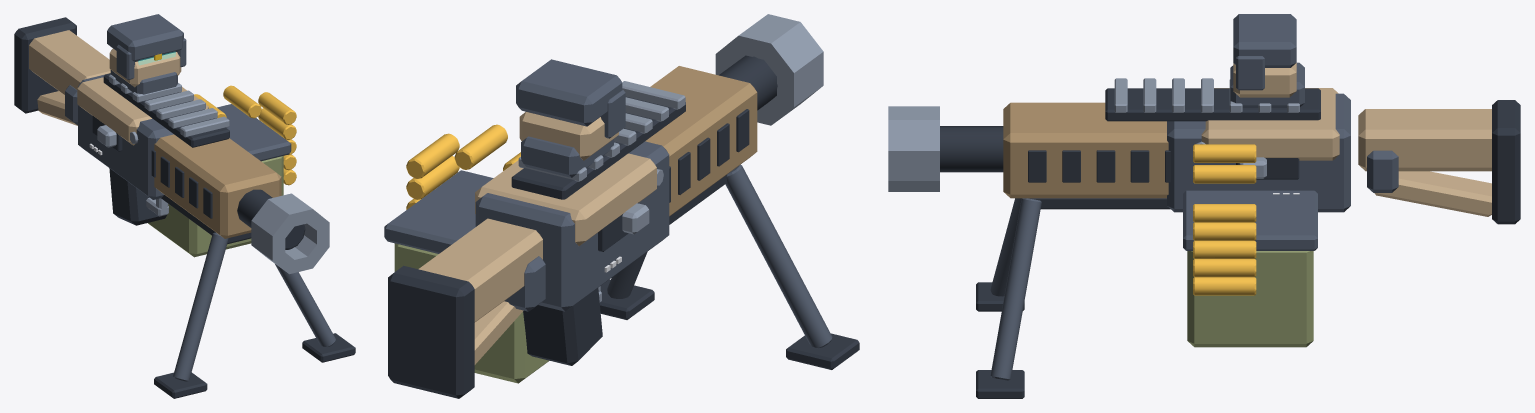
File: Military_LMG_v003.fbx
The picture shows the model from 3 angles, left to right: view 1: azimuth 30°, elevation 25°; view 2: azimuth 150°, elevation 25°; view 3: azimuth 270°, elevation 25°; orthographic projection. The views are drawn at different scales.
Visible parts, largest first — view 1: Military_LMG__RECEIVER_MESH, Military_LMG__BIPOD_MESH; view 2: Military_LMG__RECEIVER_MESH, Military_LMG__BIPOD_MESH; view 3: Military_LMG__RECEIVER_MESH, Military_LMG__BIPOD_MESH.
Part boxes in pixels (x1=…): Military_LMG__RECEIVER_MESH: x1=14, y1=14, x2=329, y2=274; Military_LMG__BIPOD_MESH: x1=154, y1=232, x2=355, y2=398; Military_LMG__RECEIVER_MESH: x1=384, y1=14, x2=823, y2=398; Military_LMG__BIPOD_MESH: x1=599, y1=164, x2=859, y2=369; Military_LMG__RECEIVER_MESH: x1=888, y1=14, x2=1520, y2=347; Military_LMG__BIPOD_MESH: x1=976, y1=198, x2=1041, y2=398.
Bounding box in the file's own units: 1.04 × 1.22 × 2.2.
